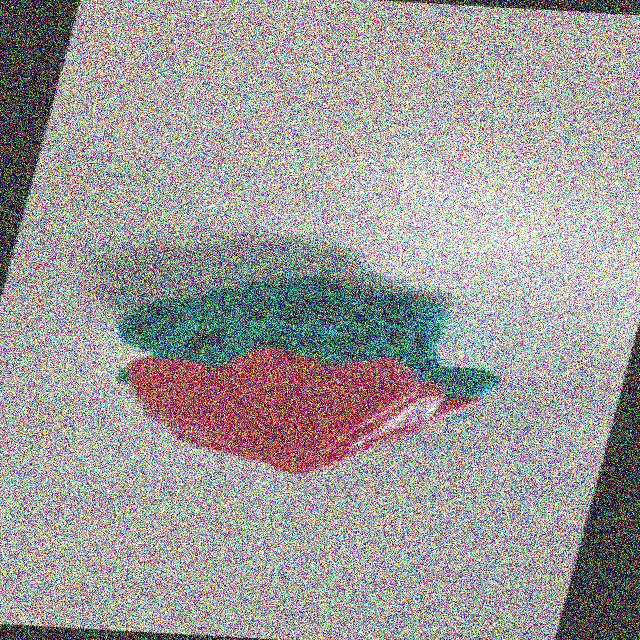House: (64, 263, 546, 501)
